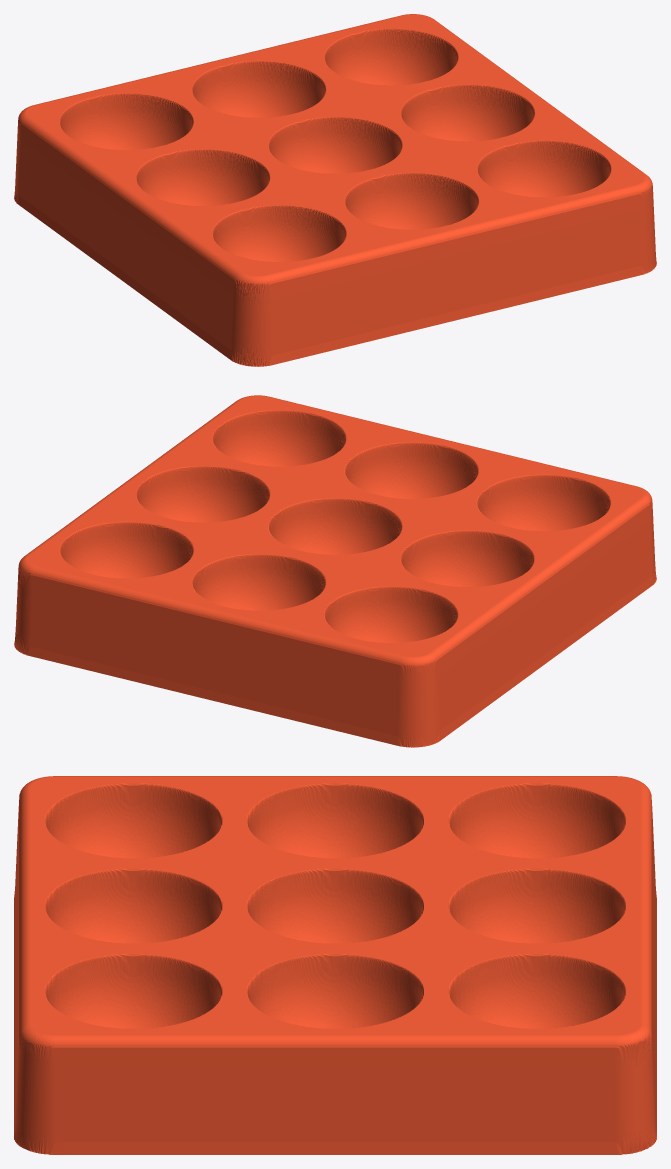
Rendered from mold.glb.
3 renders of one model, top to bottom at view 1: azimuth 30°, elevation 25°; view 2: azimuth 150°, elevation 25°; view 3: azimuth 270°, elevation 25°, orthographic. The views are drawn at different scales.
Visible parts, largest first — view 1: geometry_0; view 2: geometry_0; view 3: geometry_0.
Part boxes in pixels (x1,y1,x2,y2): geometry_0: [14, 14, 656, 366]; geometry_0: [14, 395, 656, 747]; geometry_0: [14, 776, 656, 1154].
Size of the model in its own units: 0.1409 by 0.0273 by 0.1409.
